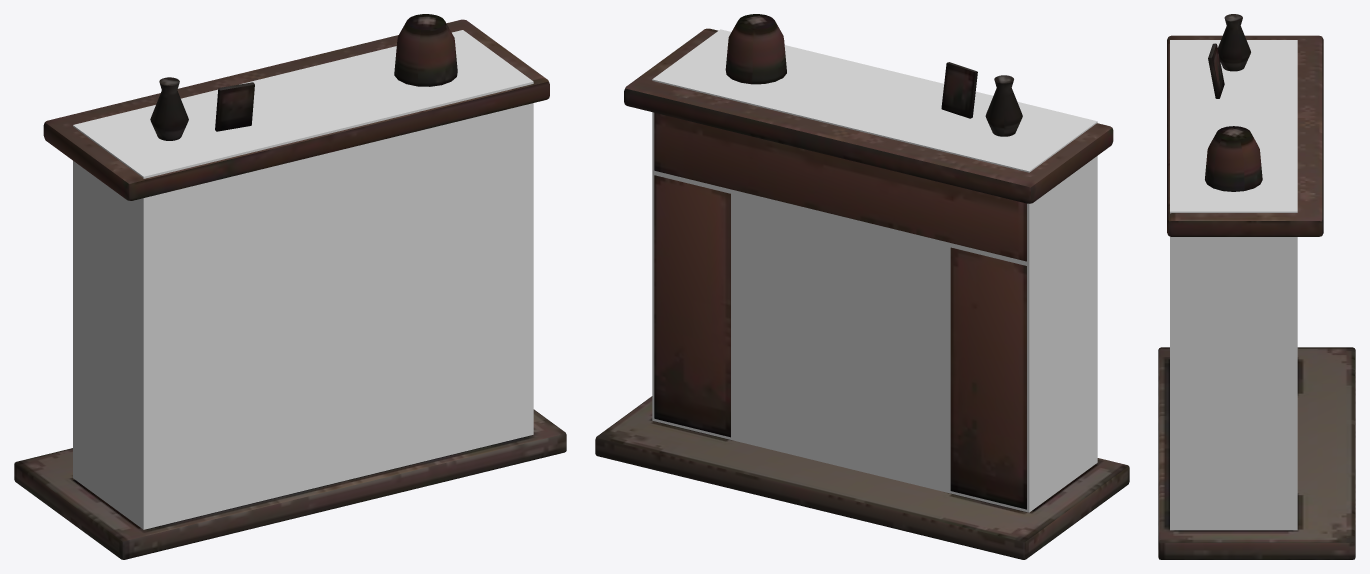
Rendered from Fireplace.glb.
3 views of the same model, side by side, from view 1: azimuth 30°, elevation 25°; view 2: azimuth 150°, elevation 25°; view 3: azimuth 270°, elevation 25° (orthographic). The views are drawn at different scales.
Visible parts, largest first — view 1: Col_1__Plastic__000000, Tex__SmoothPlastic__FFFFFF; view 2: Tex__SmoothPlastic__FFFFFF, Col_1__Plastic__000000; view 3: Col_1__Plastic__000000, Tex__SmoothPlastic__FFFFFF.
Boxes of the visible parts, <box> form: Col_1__Plastic__000000: <box>73,30,533,529</box>; Tex__SmoothPlastic__FFFFFF: <box>14,14,566,559</box>; Tex__SmoothPlastic__FFFFFF: <box>595,14,1129,559</box>; Col_1__Plastic__000000: <box>652,29,1097,512</box>; Col_1__Plastic__000000: <box>1170,40,1297,530</box>; Tex__SmoothPlastic__FFFFFF: <box>1158,14,1355,559</box>.
Bounding box in the file's own units: 2.24 × 2.05 × 0.952.
1 material, 1 textured.
